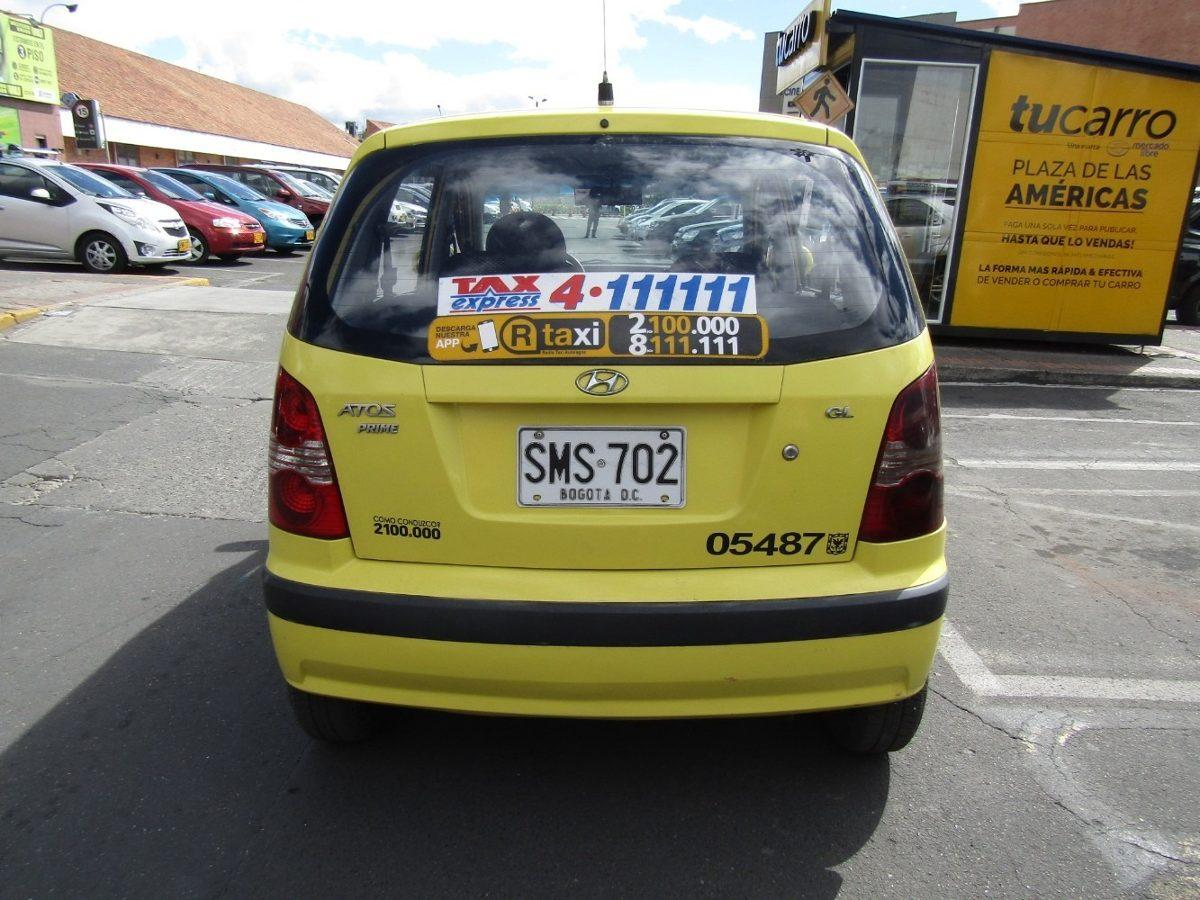taxi: (286, 113, 1031, 888)
